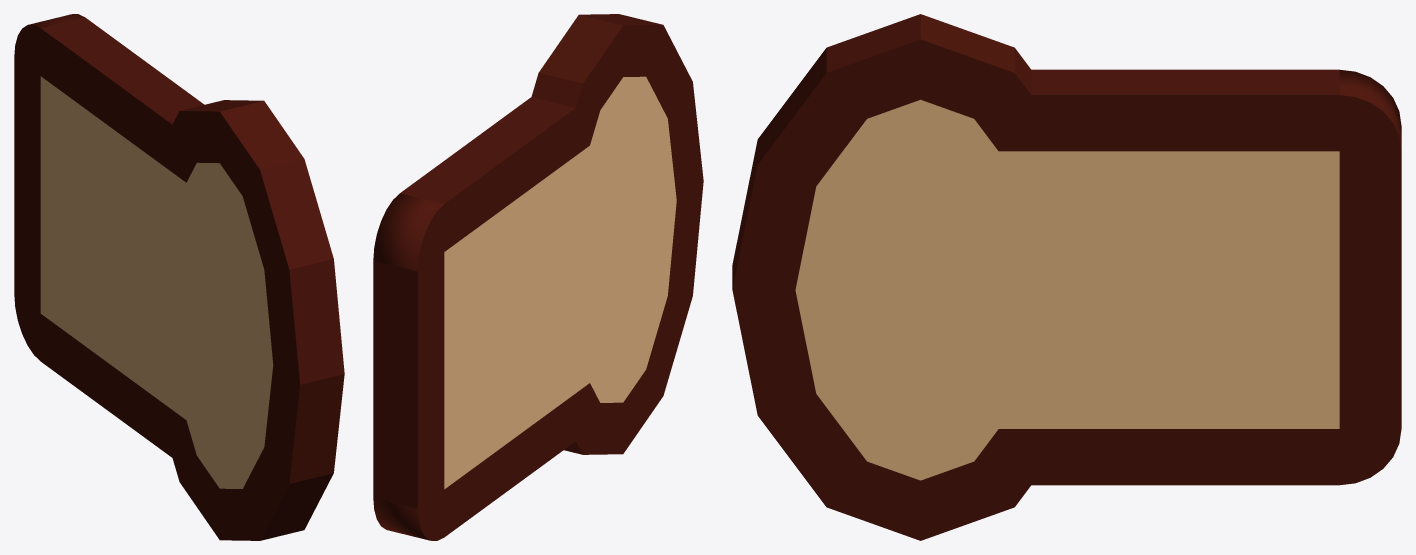
The model's file is breadslice_visual.obj.
3 views of the same model, side by side, from view 1: azimuth 30°, elevation 25°; view 2: azimuth 150°, elevation 25°; view 3: azimuth 270°, elevation 25° (orthographic). The views are drawn at different scales.
Visible parts, largest first — view 1: bread_ID7.009; view 2: bread_ID7.009; view 3: bread_ID7.009.
Part boxes in pixels (x1,y1,x2,y2): bread_ID7.009: (14, 14, 344, 540); bread_ID7.009: (373, 14, 703, 540); bread_ID7.009: (732, 14, 1401, 540).
Bounding box in the file's own units: 0.0255 × 0.235 × 0.2841.
